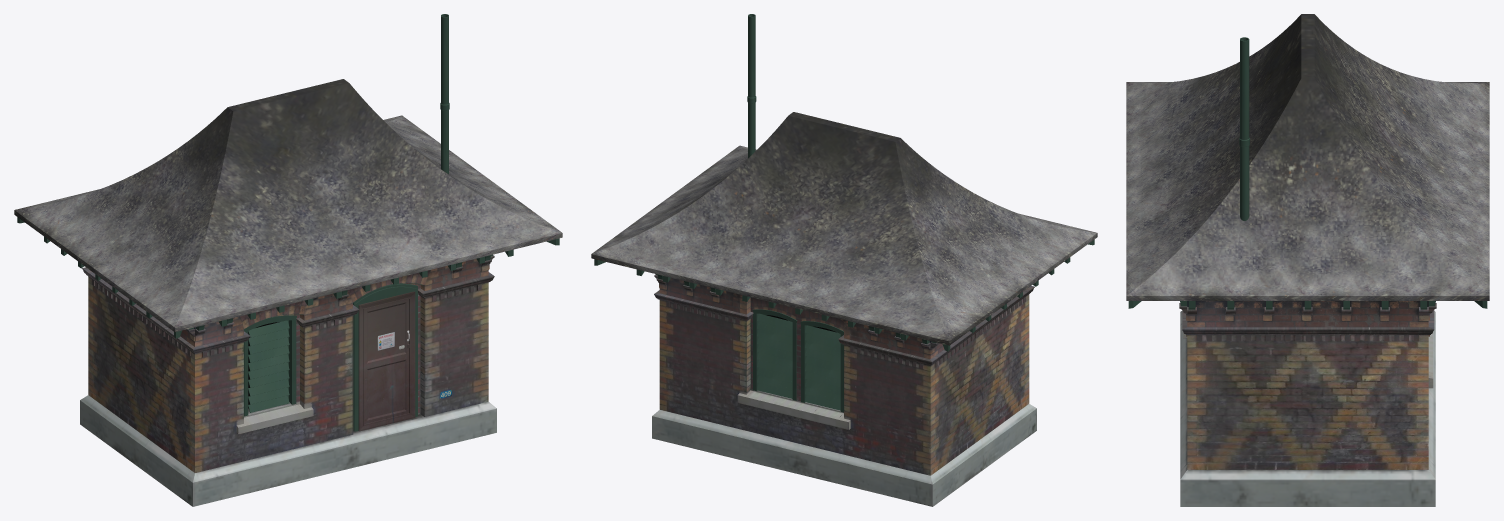
File: pumphouse.glb
3 renders of one model, left to right at view 1: azimuth 30°, elevation 25°; view 2: azimuth 150°, elevation 25°; view 3: azimuth 270°, elevation 25°, orthographic. The views are drawn at different scales.
Visible parts, largest first — view 1: Roof, Walls, Base, DoorSurrounds, FrontWindow, LedgeMolding, Doorway, Chimney, Eaves; view 2: Roof, Walls, Base, BackWindow, LedgeMolding, Chimney, Eaves; view 3: Roof, Walls, Base, LedgeMolding, Chimney, ButtressMolding, Eaves.
Part boxes in pixels (box(x1,y1,x2,y2)): Roof: box(14, 79, 562, 331); Walls: box(88, 259, 489, 472); Base: box(80, 395, 496, 506); DoorSurrounds: box(358, 291, 415, 431); FrontWindow: box(244, 315, 296, 416); LedgeMolding: box(82, 267, 494, 353); Doorway: box(353, 283, 417, 431); Chimney: box(440, 14, 449, 173); Eaves: box(17, 217, 559, 338); Roof: box(591, 112, 1097, 345); Walls: box(659, 278, 1029, 475); Base: box(652, 404, 1036, 506); BackWindow: box(752, 309, 843, 412); LedgeMolding: box(654, 286, 1034, 365); Chimney: box(747, 14, 756, 158); Eaves: box(594, 239, 1094, 351); Roof: box(1126, 14, 1489, 300); Walls: box(1183, 301, 1433, 469); Base: box(1180, 311, 1435, 506); LedgeMolding: box(1182, 306, 1434, 334); Chimney: box(1239, 37, 1249, 220); ButtressMolding: box(1179, 303, 1436, 314); Eaves: box(1128, 301, 1487, 308).
Bounding box in the file's own units: 4.57 × 4.53 × 3.28.
Materials: 8 (6 with a texture image).
